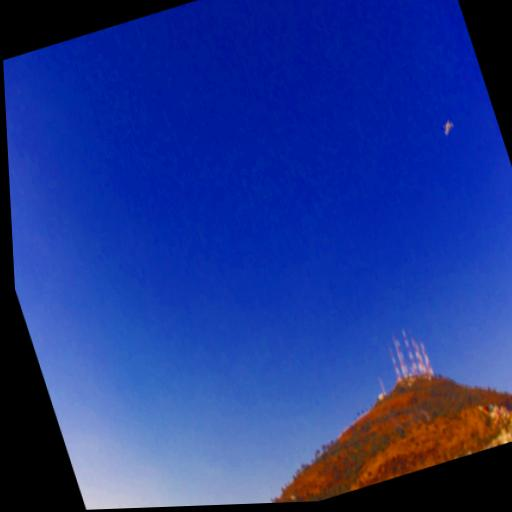drones: (439, 115, 457, 138)
